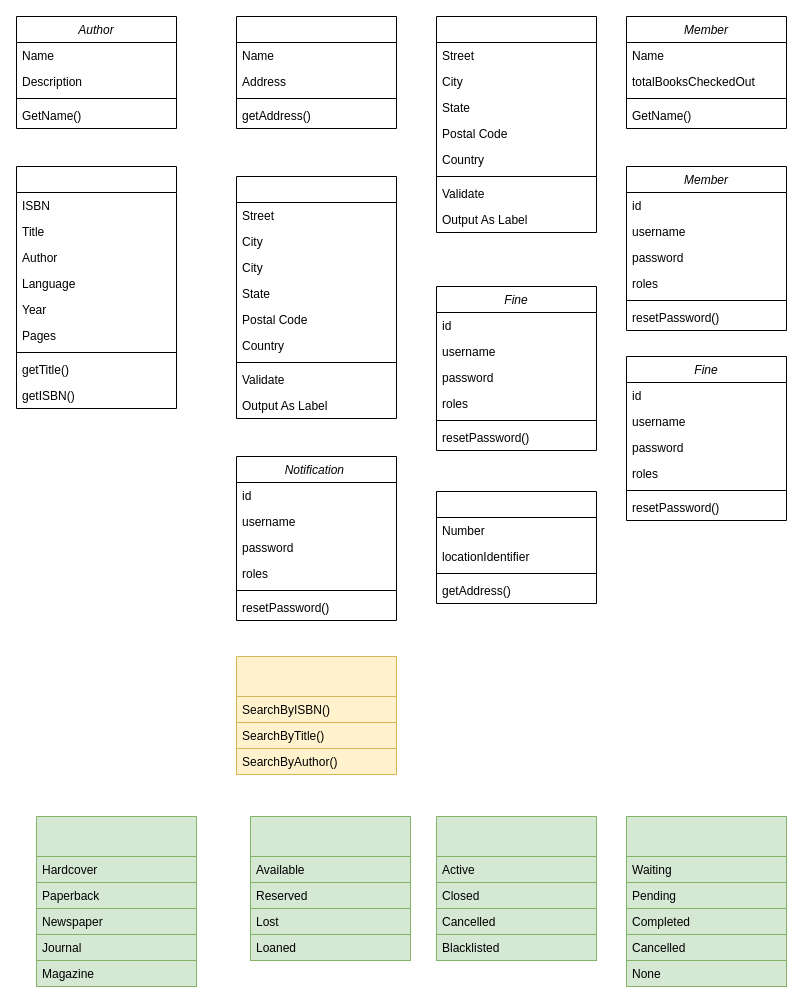
Image size: 803x1003. Some labels were removed from this diagram. Each missing label, with the box of its shape:
Book: (16, 166, 176, 408)
Book Item: (236, 176, 396, 418)
Librarian: (436, 16, 596, 232)
Library: (236, 16, 396, 128)
Rack: (436, 490, 596, 604)
«enumeration» AccountStatus: (436, 816, 596, 960)
«enumeration» BookFormat: (36, 816, 196, 986)
«enumeration» BookStatus: (250, 816, 410, 960)
«enumeration» ReservationStatus: (626, 816, 786, 986)
«interface» BookFormat: (236, 656, 396, 774)
